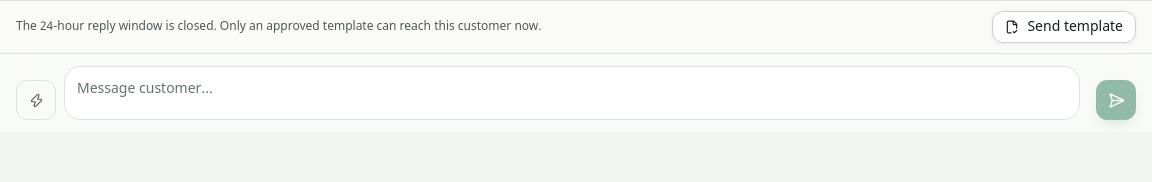
Test: Composer send-template fallback › queues one template send and says so instead of pretending it sent
Step 1. Click the button "Send template" → x=1064, y=27, box x1=992 y1=11 x2=1136 y2=43
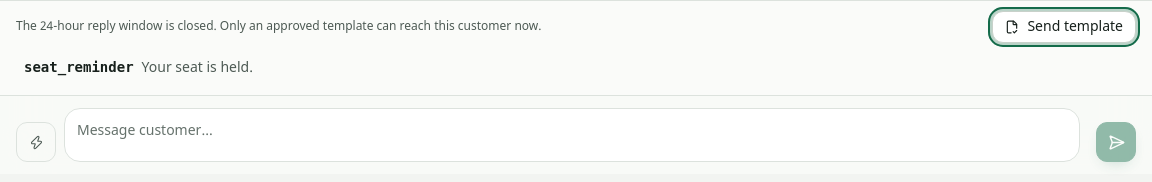
Step 2. Click the text "seat_reminder" → x=79, y=67, box x1=24 y1=59 x2=134 y2=75
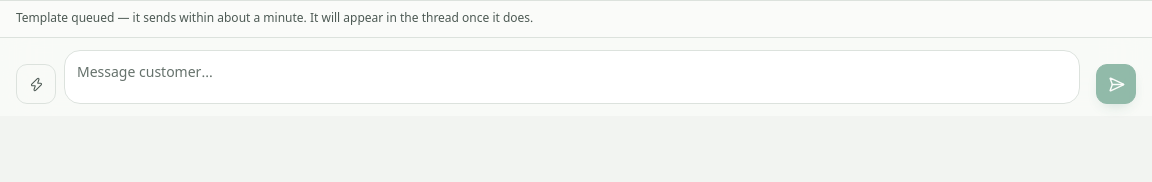
Expected: the message shows "queued", x1=16 y1=11 x2=533 y2=27
